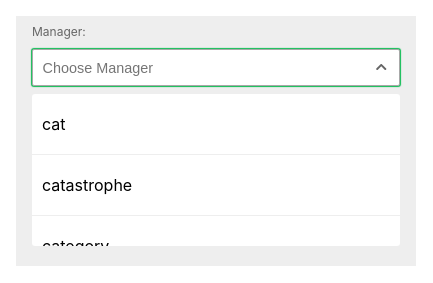
Scenario: user interaction › user clicks on item in dropdown › updates value with formatted selection and closes dropdown
The width and height of the screenshot is (433, 283).
Press the mouse on the text "cat" at coordinates (54, 124), box [42, 114, 66, 134]
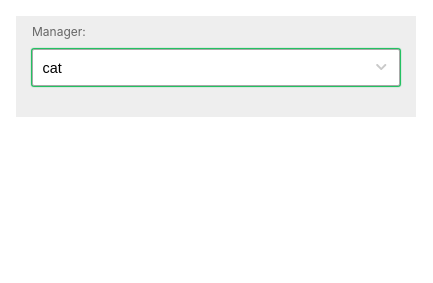
expect the field holds "cat": met, box [32, 49, 400, 86]
